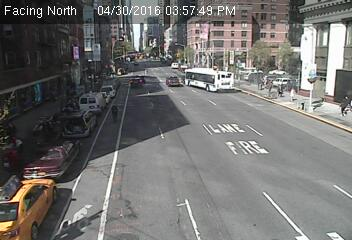neg: (15, 173, 37, 203), (192, 130, 212, 156), (64, 83, 83, 107), (34, 104, 51, 127), (306, 93, 321, 113), (252, 71, 267, 91), (164, 67, 177, 85), (160, 46, 172, 63), (120, 55, 131, 70), (100, 66, 109, 77)
pos: (107, 103, 123, 124), (334, 97, 350, 118), (284, 83, 297, 101)
